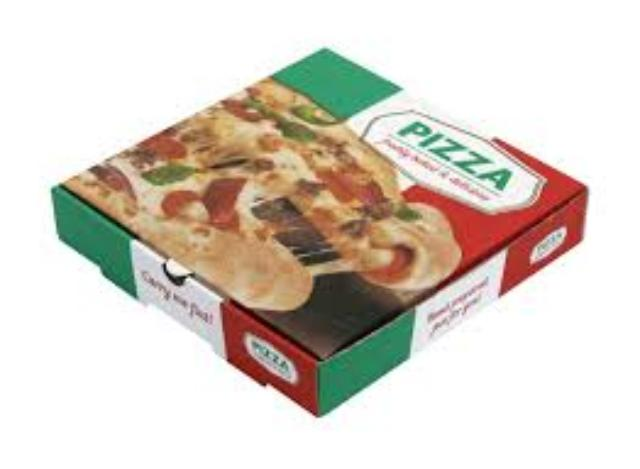cardboard paper: (49, 46, 581, 410)
